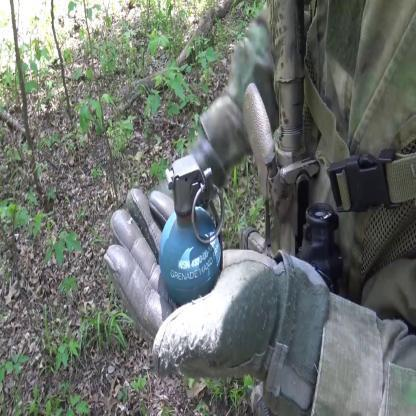Grenade: (160, 154, 224, 308)
Gun: (245, 0, 344, 294)
